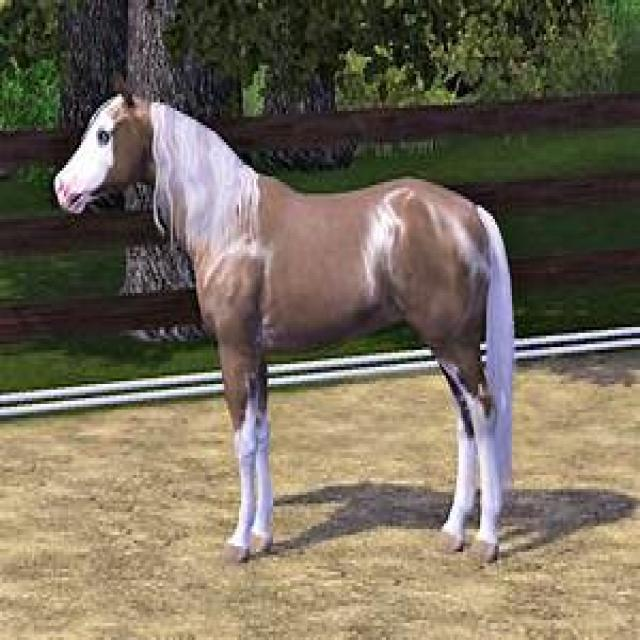horse: (51, 91, 518, 569)
